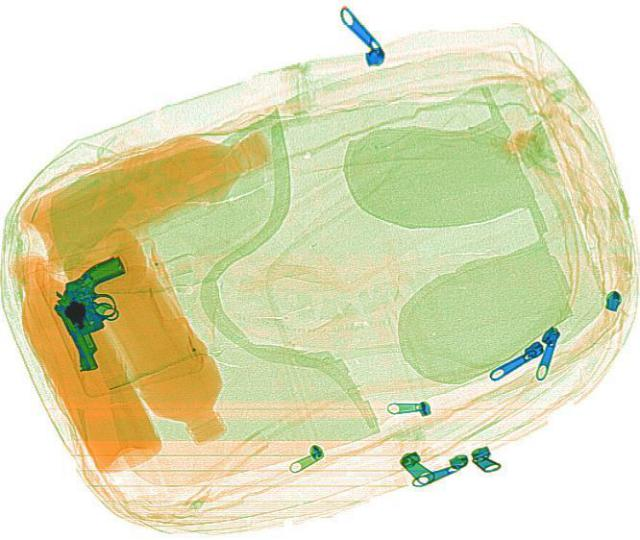Gun: (29, 253, 164, 369)
